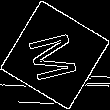M_E: (25, 26, 85, 84)
